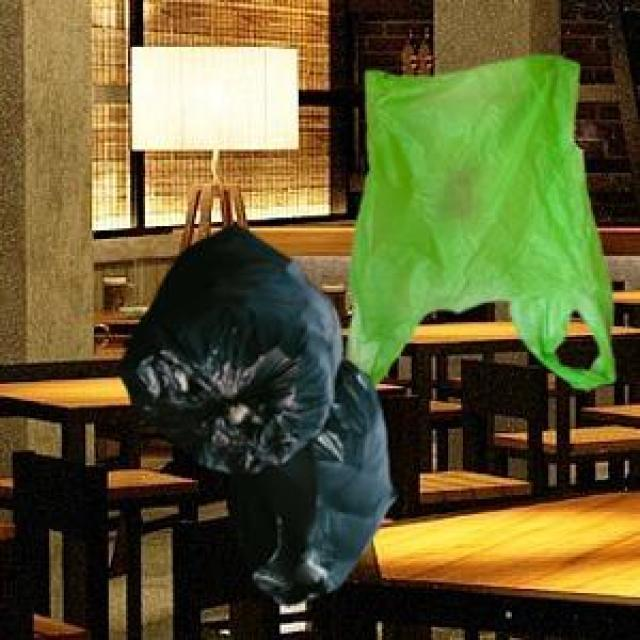miscellaneous trash: (115, 222, 393, 602)
